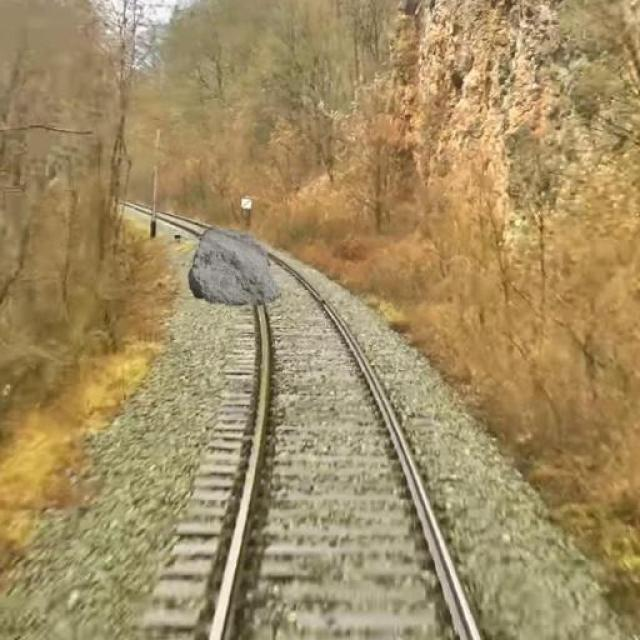Stone: (182, 225, 286, 312)
